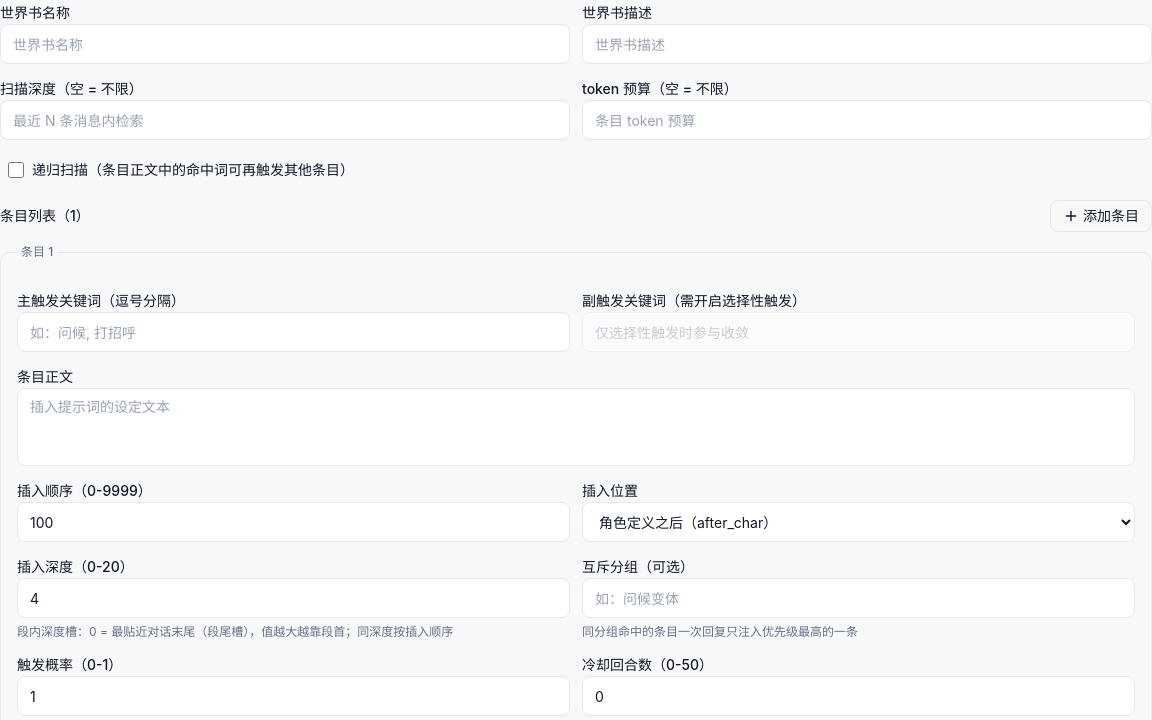
Test case: CharacterBookEditor › 条目字段编辑：keys 文本 + 插入顺序 + 插入位置 + 恒插入/区分大小写
The width and height of the screenshot is (1152, 720).
Later steps or results of the test are not shown.
Type "问候，晚安" into the field labelled "主触发关键词（逗号分隔）" at [294, 332], box [17, 312, 570, 352]
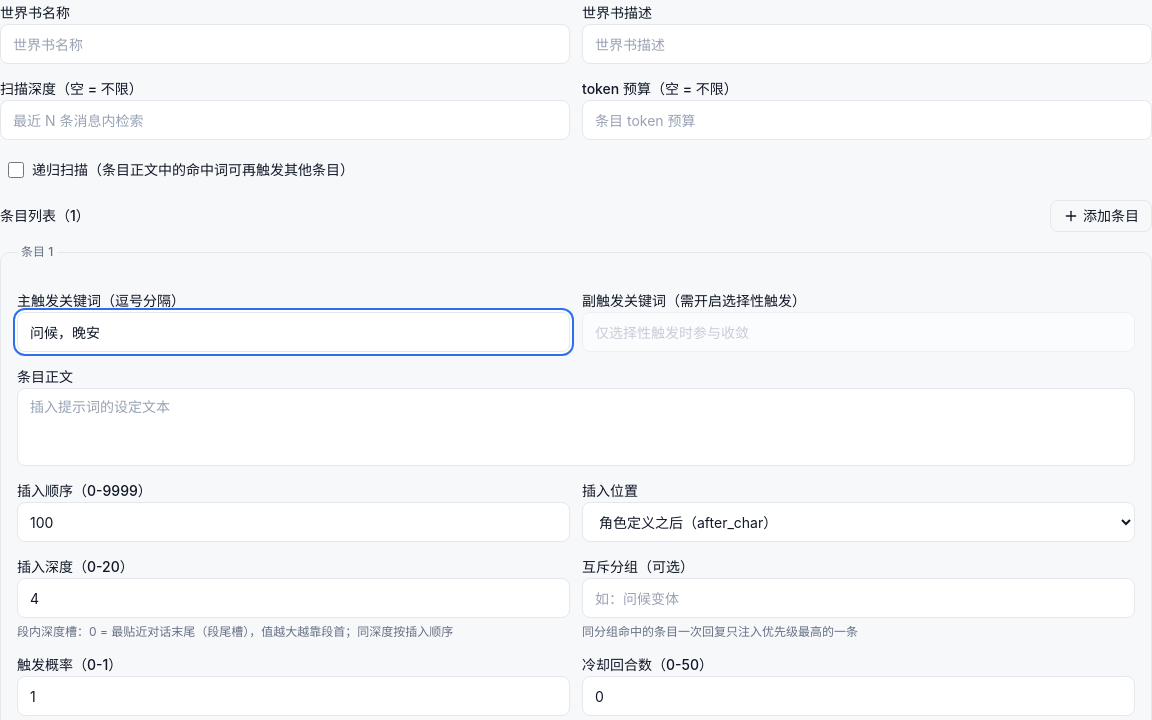
Replace the text in the field labelled "插入顺序（0-9999）" with "42" at [294, 522], box [17, 502, 570, 542]
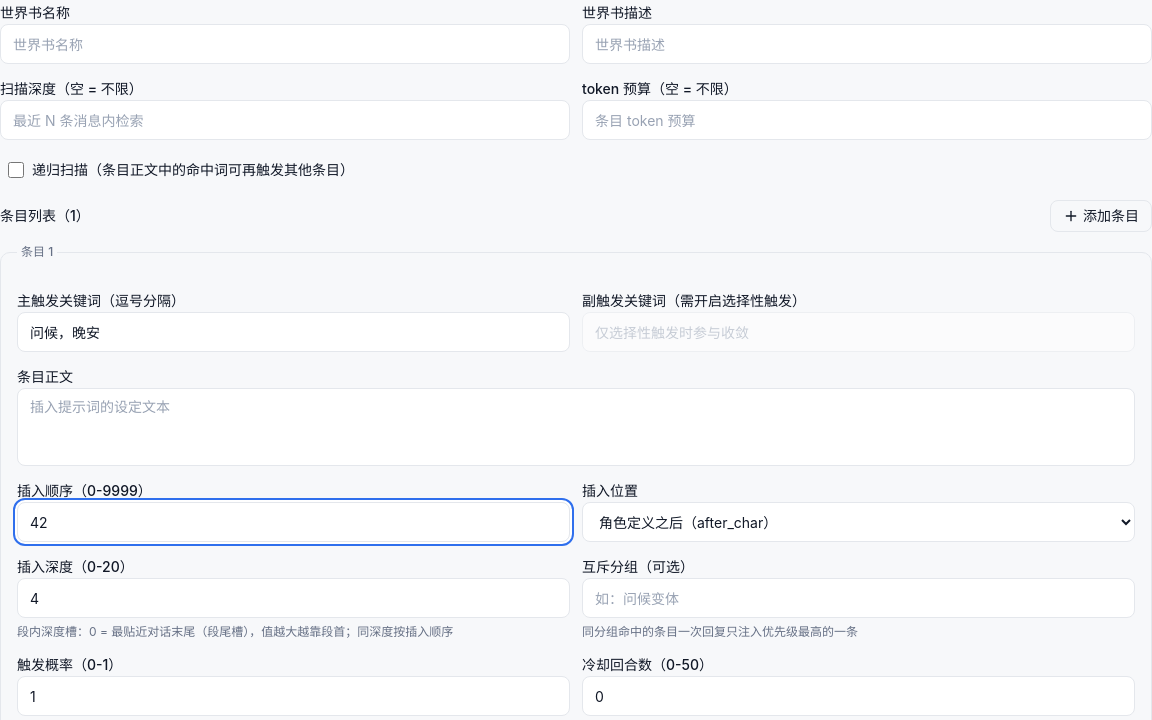
Select "角色定义之前（before_char）" in the dropdown labelled "插入位置" at [858, 522], box [582, 502, 1135, 542]
(page scrolled)
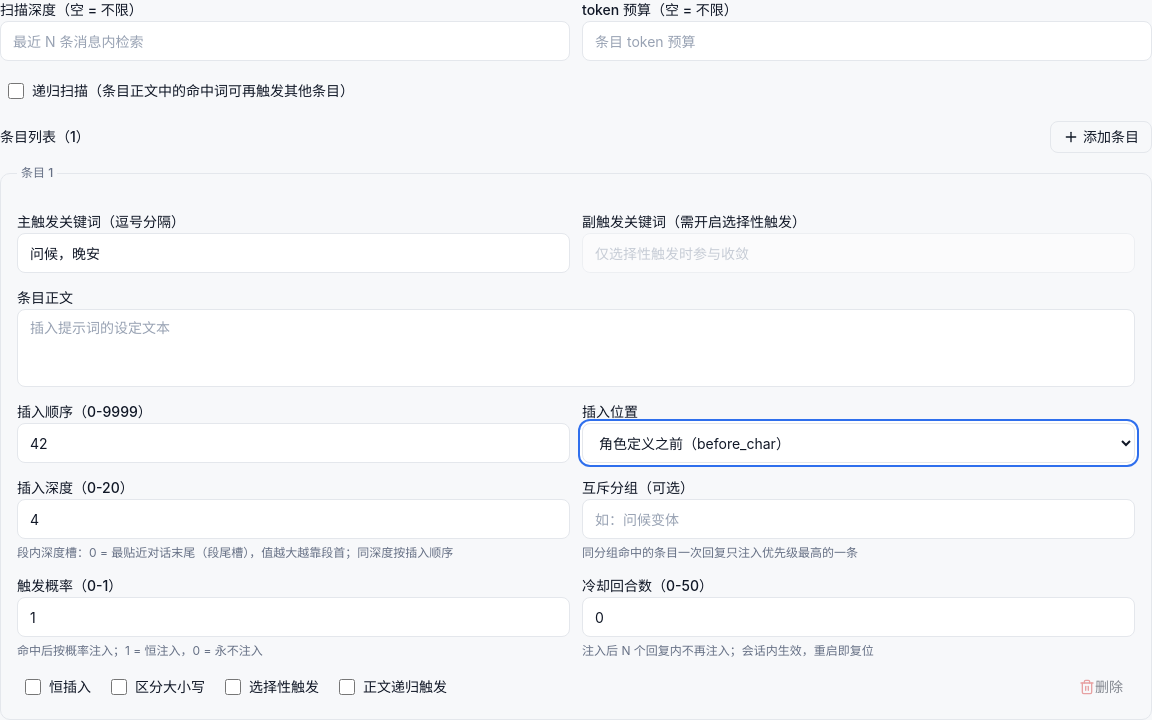
Click the checkbox labelled "恒插入" at [33, 687], box [25, 679, 41, 695]
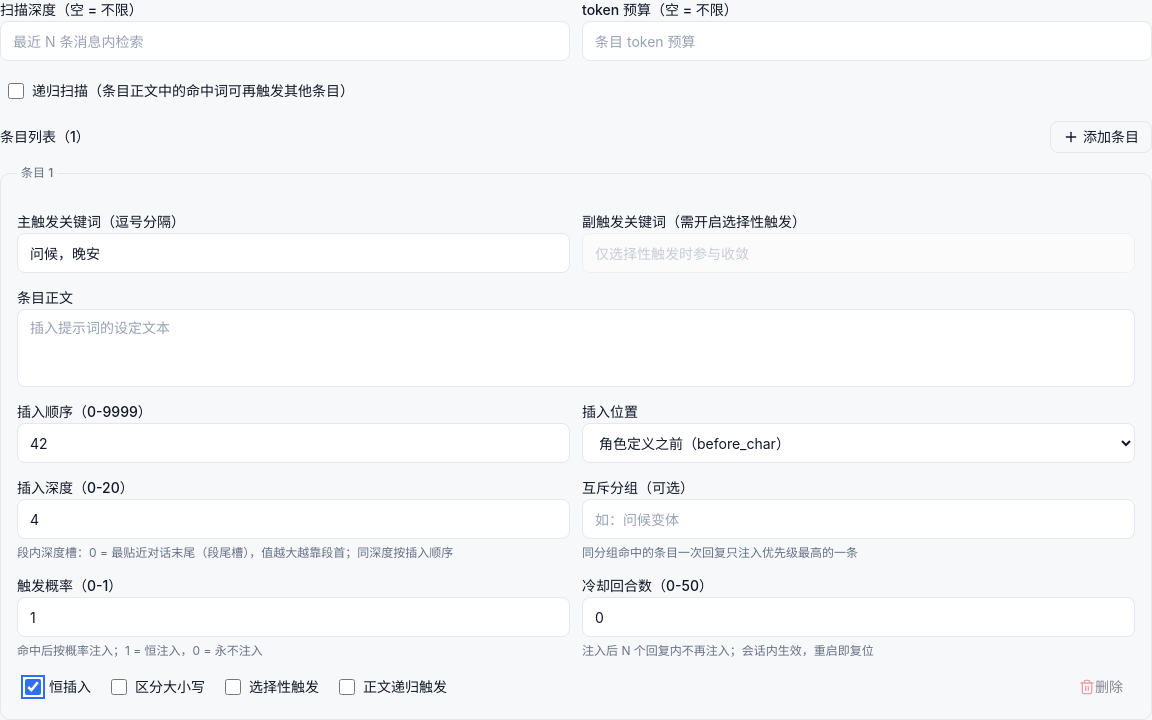
Click the checkbox labelled "区分大小写" at [119, 687], box [111, 679, 127, 695]
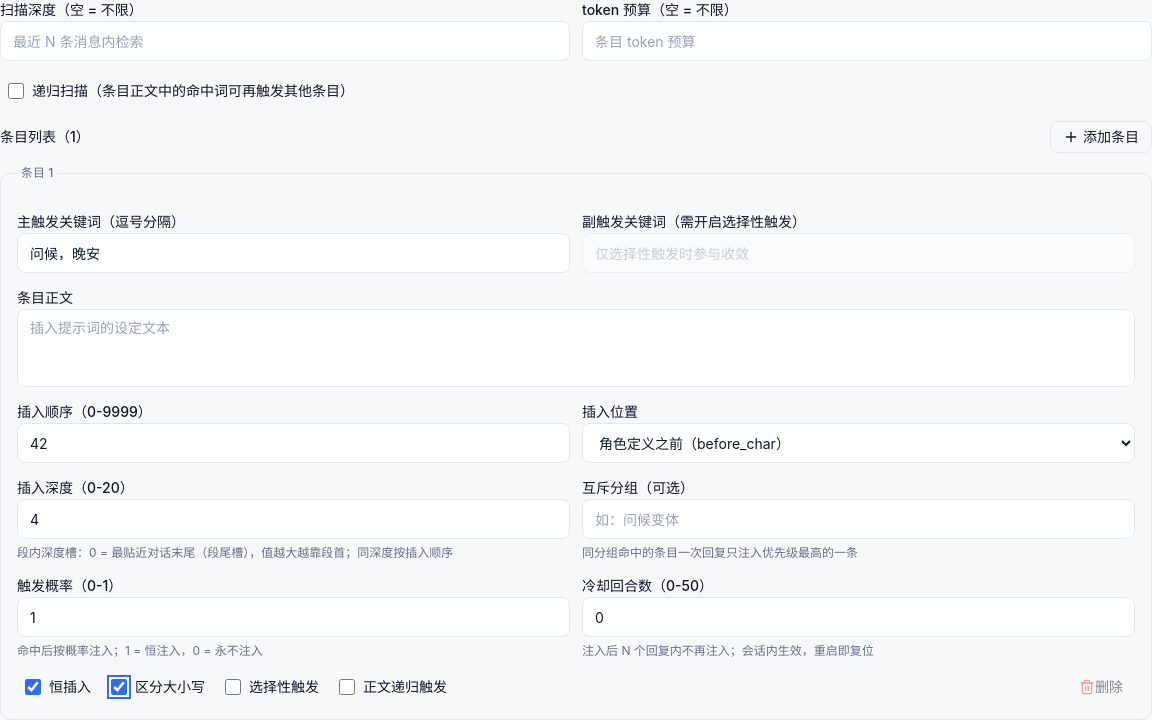
Check: the checkbox labelled "恒插入" is checked, box [25, 679, 41, 695]
Check: the checkbox labelled "区分大小写" is checked, box [111, 679, 127, 695]
